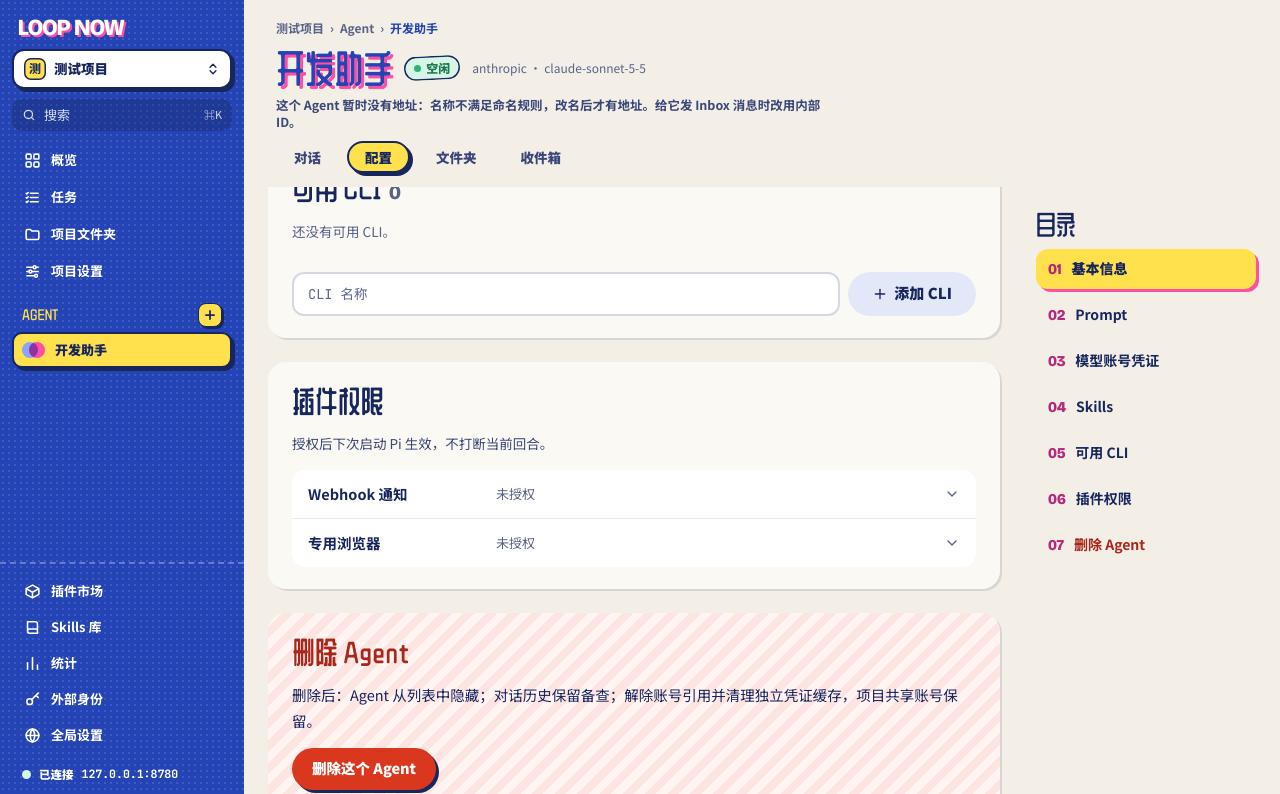
Scenario: Agent 配置页的插件段 › 有未保存的修改时切到别的插件先确认
(page scrolled)
Step 1. Click the button "Webhook 通知 未授权" → click(358, 494), box 292,470 -> 976,518
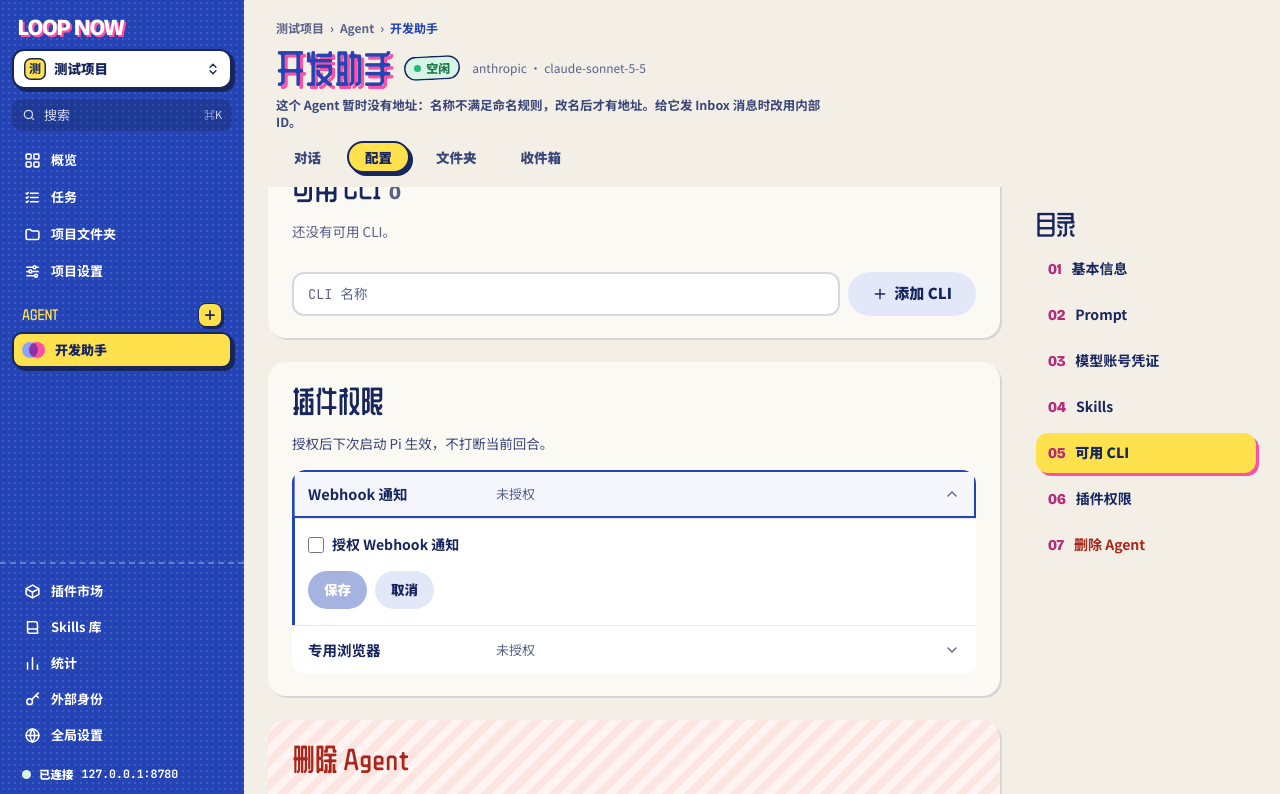
Step 2. Click the checkbox labelled "授权 Webhook 通知" → click(316, 545), box 308,537 -> 324,553
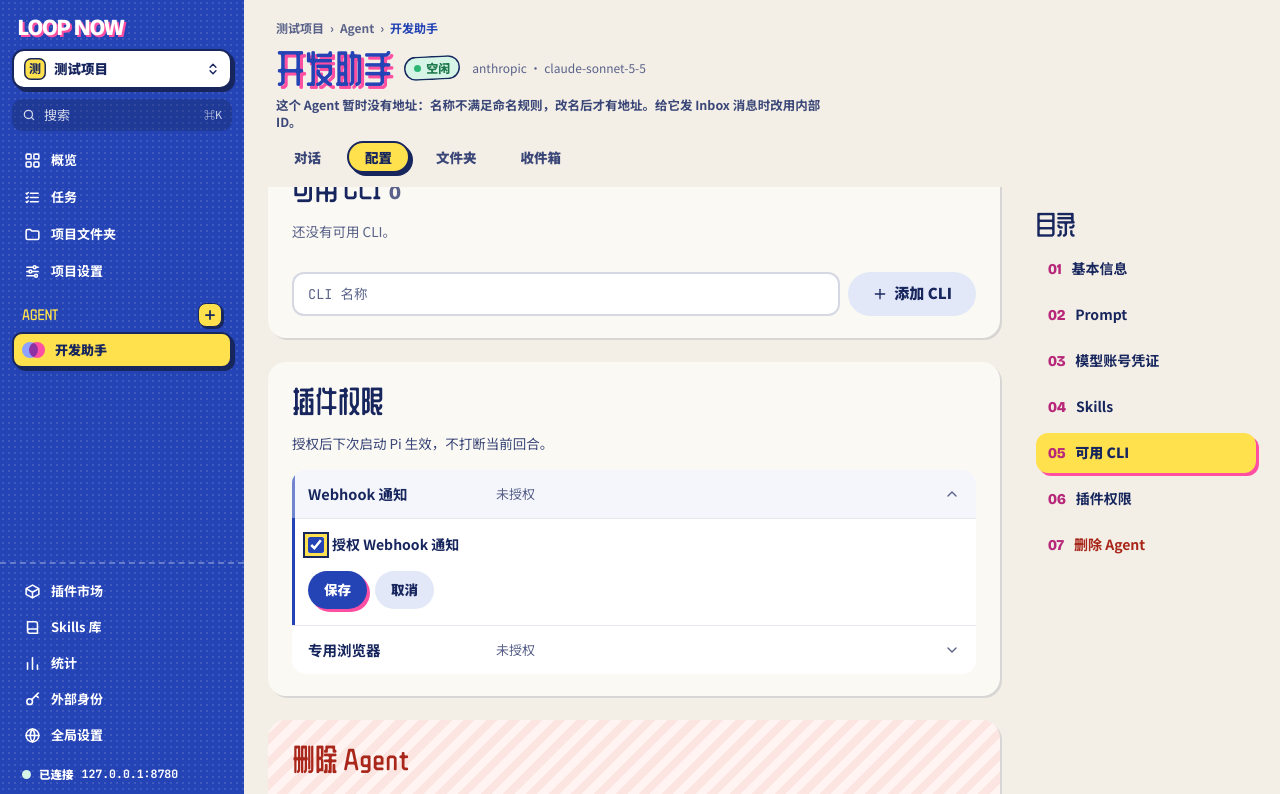
Step 3. Click the button "专用浏览器 未授权" → click(344, 650), box 292,626 -> 976,674
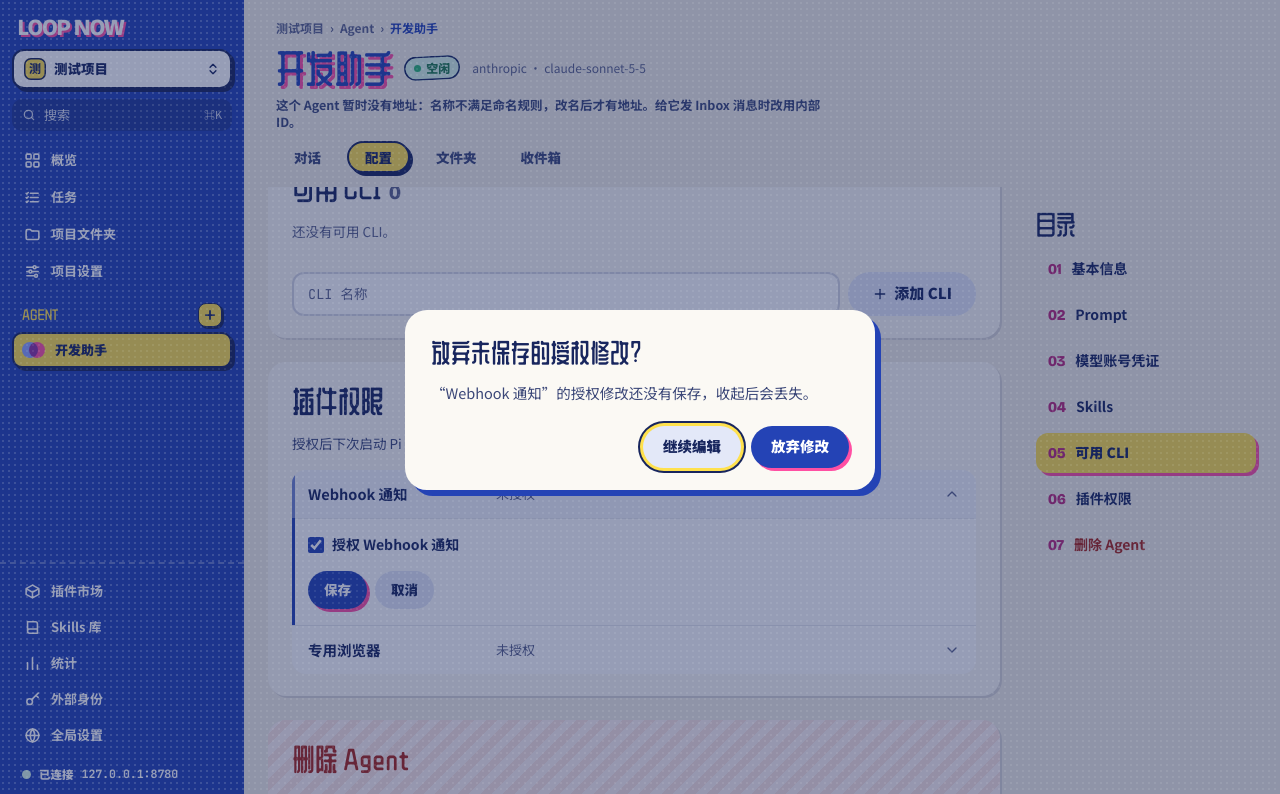
Step 4. Click the button "放弃修改" → click(800, 447), box 751,426 -> 849,468
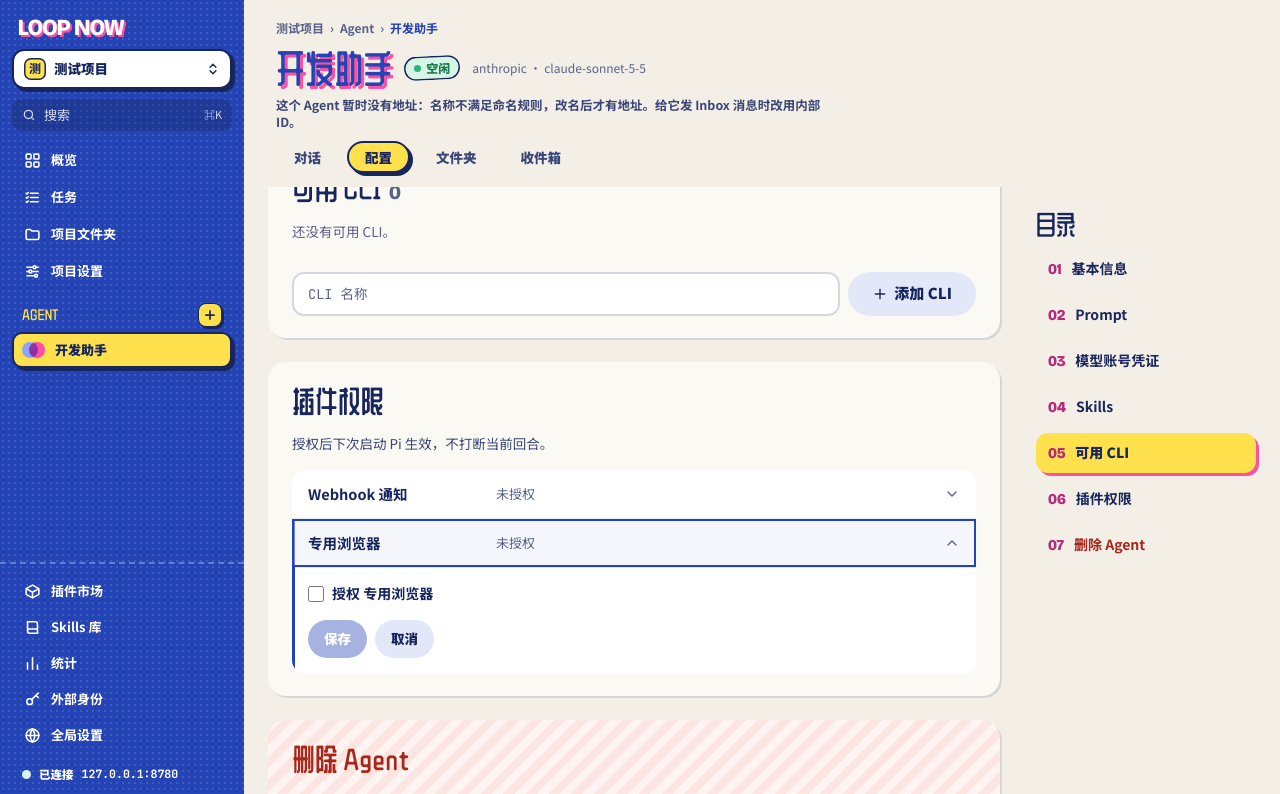
Expected: the checkbox labelled "授权 专用浏览器" is not checked, 308,586 -> 324,602
